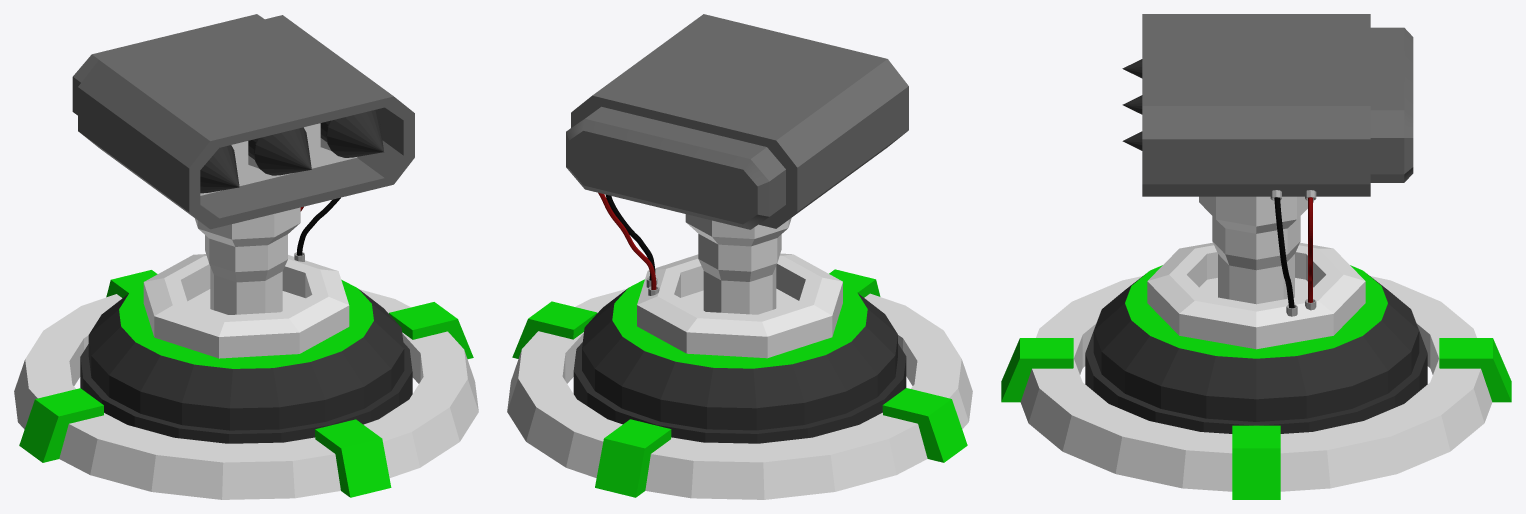
The model's file is MissileTurret.fbx.
3 renders of one model, left to right at view 1: azimuth 30°, elevation 25°; view 2: azimuth 150°, elevation 25°; view 3: azimuth 270°, elevation 25°, orthographic. The views are drawn at different scales.
Parts seen in each view (by area): view 1: Turret_Pivot, Turret_base; view 2: Turret_Pivot, Turret_base; view 3: Turret_Pivot, Turret_base.
Part boxes in pixels (x1,y1,x2,y2): Turret_Pivot: (72,14,414,443); Turret_base: (14,270,478,499); Turret_Pivot: (566,14,908,443); Turret_base: (507,269,972,499); Turret_Pivot: (1085,14,1427,433); Turret_base: (1001,276,1511,499).
Bounding box in the file's own units: 3.58 × 2.57 × 3.58.
